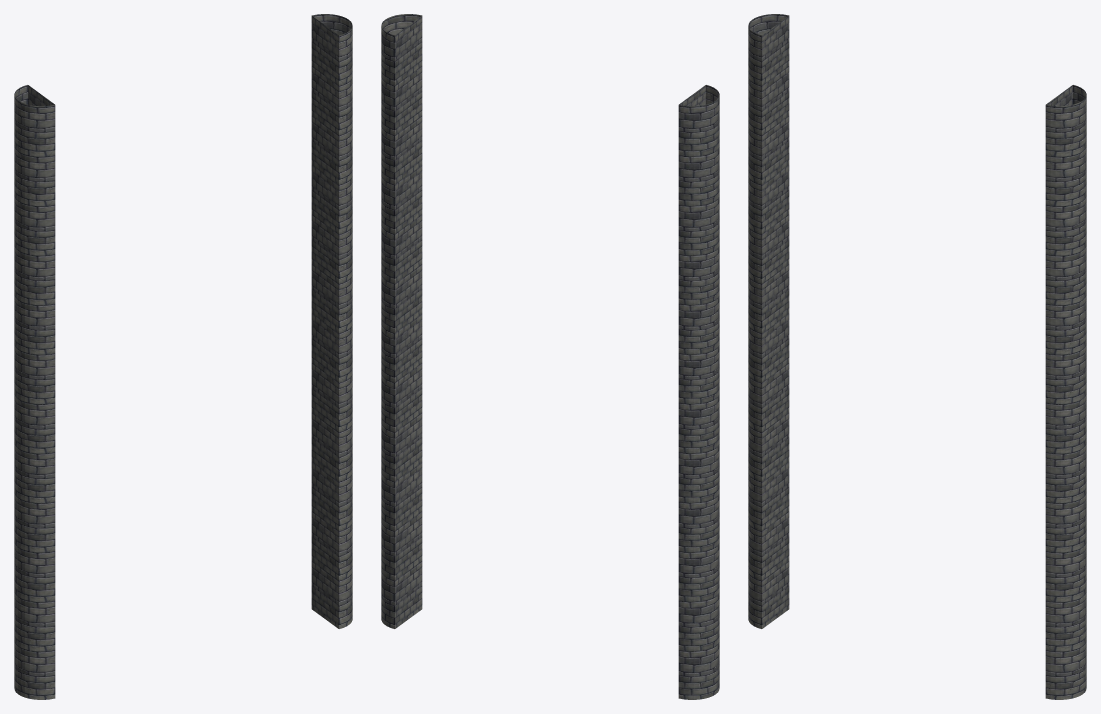
The model's file is wall.obj.
3 renders of one model, left to right at view 1: azimuth 30°, elevation 25°; view 2: azimuth 150°, elevation 25°; view 3: azimuth 330°, elevation 25°, orthographic.
Parts seen in each view (by area): view 1: Cylinder_Cylinder.002, Cylinder.001_Cylinder.002; view 2: Cylinder_Cylinder.002, Cylinder.001_Cylinder.002; view 3: Cylinder_Cylinder.002, Cylinder.001_Cylinder.002.
Boxes of the visible parts, <box> form: Cylinder_Cylinder.002: <box>14,85,55,699</box>; Cylinder.001_Cylinder.002: <box>311,14,352,628</box>; Cylinder_Cylinder.002: <box>678,85,719,699</box>; Cylinder.001_Cylinder.002: <box>381,14,422,628</box>; Cylinder_Cylinder.002: <box>748,14,789,628</box>; Cylinder.001_Cylinder.002: <box>1045,85,1086,699</box>.
Bounding box in the file's own units: 14 × 24 × 2.
